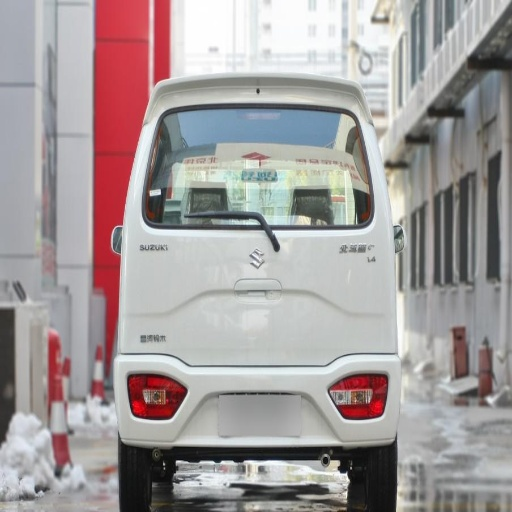back_bumper: (125, 356, 402, 449)
back_glass: (176, 104, 342, 179)
back_left_door: (296, 147, 384, 261)
trunk: (118, 165, 394, 388)
